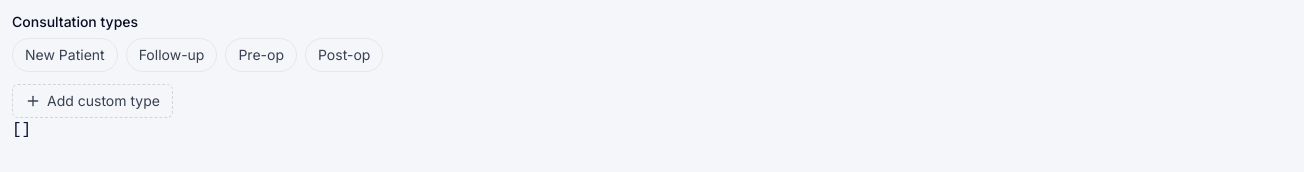
Test case: ConsultationTypesEditor — custom add › opens the inline input when 'Add custom type' is clicked
Click the button "Add custom type": click(92, 101) [12,84,173,118]
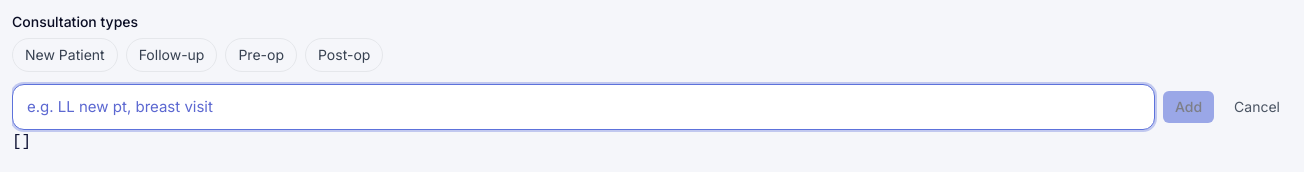
Result: the field named "custom consultation type name" is shown at [12,84,1155,130]
